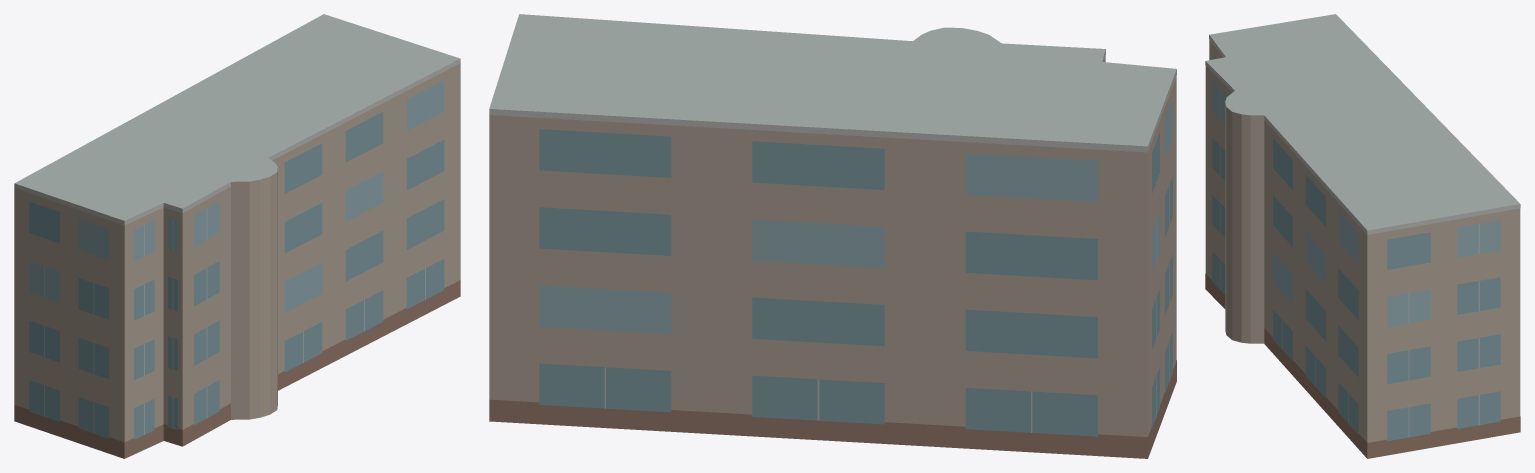
The model's file is survey-upis-32856667.glb.
3 views of the same model, side by side, from view 1: azimuth 30°, elevation 25°; view 2: azimuth 150°, elevation 25°; view 3: azimuth 270°, elevation 25° (orthographic). The views are drawn at different scales.
Parts seen in each view (by area): view 1: survey-upis-32856667.tmp; view 2: survey-upis-32856667.tmp; view 3: survey-upis-32856667.tmp.
Part boxes in pixels (<box>): survey-upis-32856667.tmp: <box>14,14,460,458</box>; survey-upis-32856667.tmp: <box>489,14,1176,458</box>; survey-upis-32856667.tmp: <box>1205,14,1520,458</box>.
Bounding box in the file's own units: 25.63 × 12.6 × 15.76.
